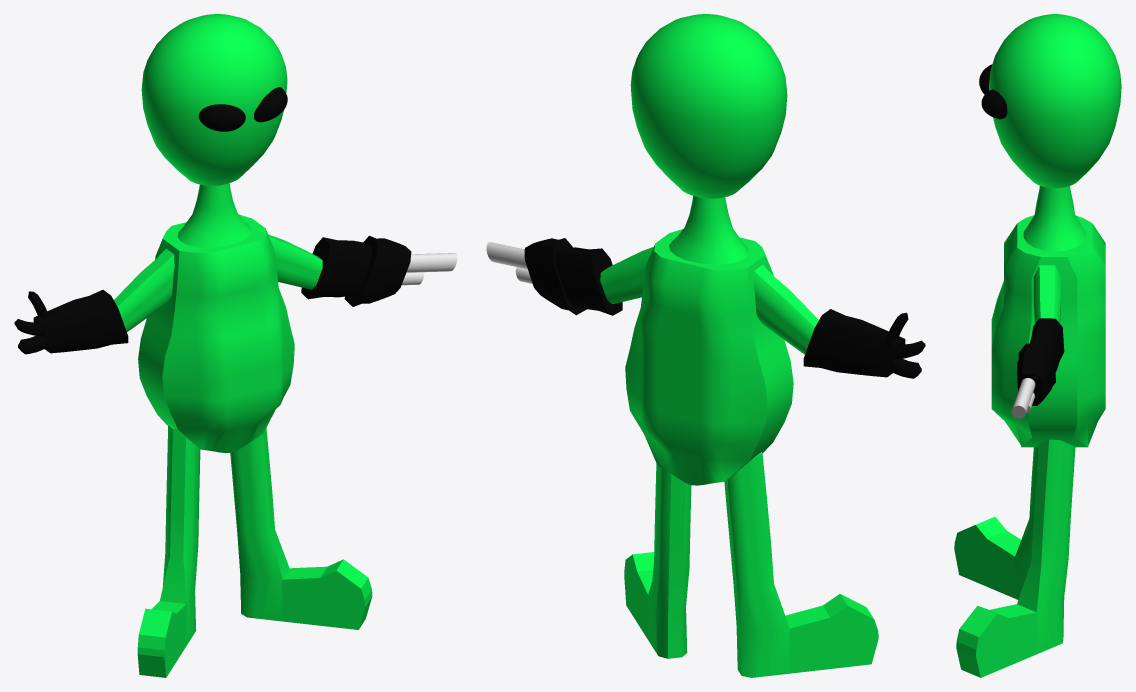
File: alien_unrigged.gltf
3 renders of one model, left to right at view 1: azimuth 30°, elevation 25°; view 2: azimuth 150°, elevation 25°; view 3: azimuth 270°, elevation 25°, orthographic. The views are drawn at different scales.
Visible parts, largest first — view 1: chest_box, head_box, gambda_sx_box, gamba_dx_box, mano_dx_box, collo_box, arma_box, braccio_dx_box, Box06, braccio_sx_box, Sphere02, Cylinder02 (+1 smaller); view 2: chest_box, head_box, gamba_dx_box, gambda_sx_box, mano_dx_box, collo_box, braccio_dx_box, arma_box, Box06, braccio_sx_box, Cylinder02; view 3: head_box, chest_box, gambda_sx_box, gamba_dx_box, collo_box, Box06, braccio_sx_box, arma_box, Cylinder02, Sphere03.
Boxes of the visible parts, box(x1,y1,x2,y2) form: chest_box: box(138, 214, 294, 453); head_box: box(141, 14, 287, 186); gambda_sx_box: box(230, 428, 372, 629); gamba_dx_box: box(137, 424, 200, 677); mano_dx_box: box(33, 290, 128, 353); collo_box: box(177, 183, 251, 247); arma_box: box(301, 237, 371, 299); braccio_dx_box: box(114, 248, 174, 331); Box06: box(344, 235, 411, 306); braccio_sx_box: box(268, 234, 322, 289); Sphere02: box(198, 104, 245, 131); Cylinder02: box(406, 253, 457, 272); chest_box: box(625, 229, 793, 485); head_box: box(630, 14, 787, 199); gamba_dx_box: box(724, 452, 878, 677); gambda_sx_box: box(624, 463, 691, 658); mano_dx_box: box(803, 309, 905, 377); collo_box: box(669, 196, 748, 264); braccio_dx_box: box(753, 265, 818, 354); arma_box: box(556, 247, 622, 315); Box06: box(524, 238, 586, 315); braccio_sx_box: box(600, 247, 653, 304); Cylinder02: box(486, 242, 527, 269); head_box: box(989, 14, 1121, 188); chest_box: box(991, 215, 1105, 447); gambda_sx_box: box(956, 439, 1075, 677); gamba_dx_box: box(954, 447, 1038, 599); collo_box: box(1023, 186, 1086, 251); Box06: box(1017, 343, 1055, 405); braccio_sx_box: box(1033, 265, 1060, 323); arma_box: box(1029, 318, 1064, 372); Cylinder02: box(1011, 378, 1035, 418); Sphere03: box(981, 89, 1007, 119).
Size of the model in its own units: 3.46 by 4.69 by 1.18.
